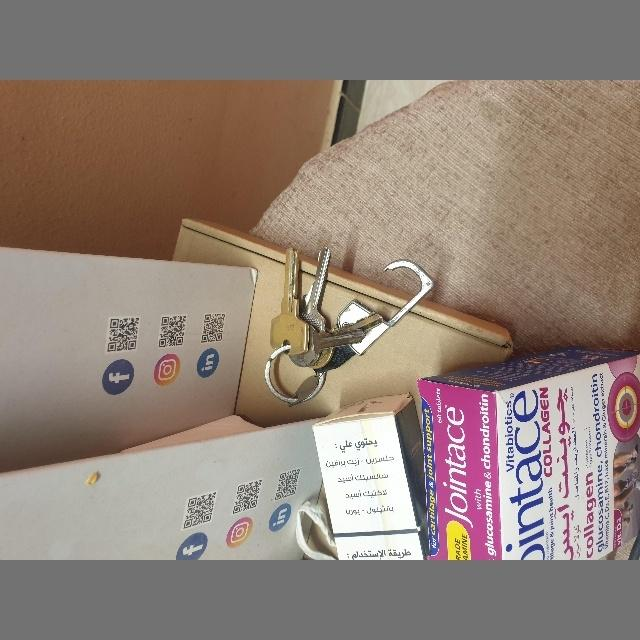Keys: (205, 276, 422, 408)
